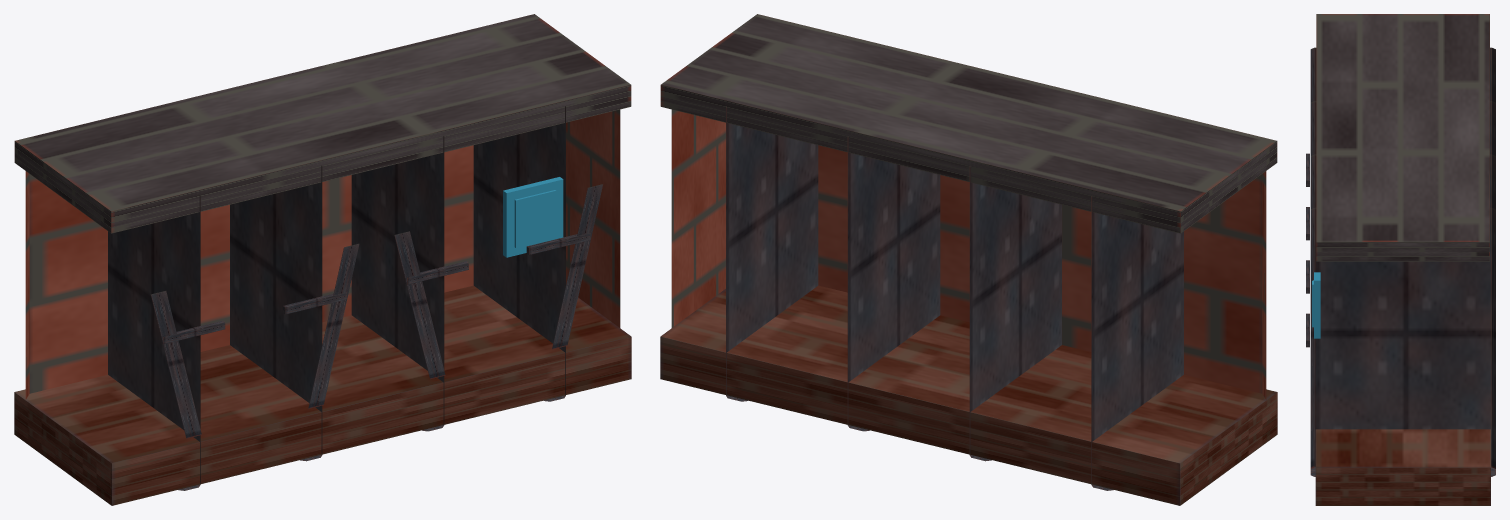
File: edificio-wall-e4--90YM-rI.glb
3 views of the same model, side by side, from view 1: azimuth 30°, elevation 25°; view 2: azimuth 150°, elevation 25°; view 3: azimuth 270°, elevation 25° (orthographic). The views are drawn at different scales.
Parts seen in each view (by area): view 1: wall_body, team_color; view 2: wall_body; view 3: wall_body, team_color.
Boxes of the visible parts, box(x1,y1,x2,y2) form: wall_body: box(14, 14, 631, 505); team_color: box(503, 177, 563, 257); wall_body: box(660, 14, 1277, 505); wall_body: box(1306, 14, 1495, 505); team_color: box(1312, 272, 1320, 338).
Size of the model in its own units: 32 by 17.3 by 11.26.
2 materials, 1 textured.
